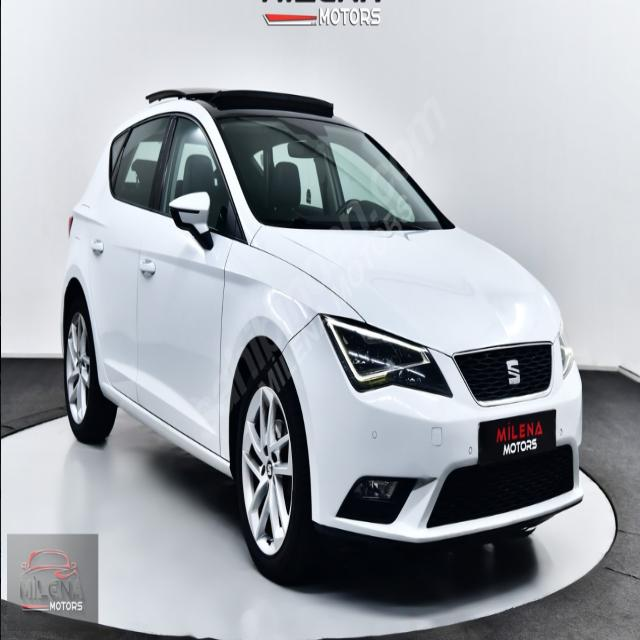seat: (504, 355, 522, 390)
